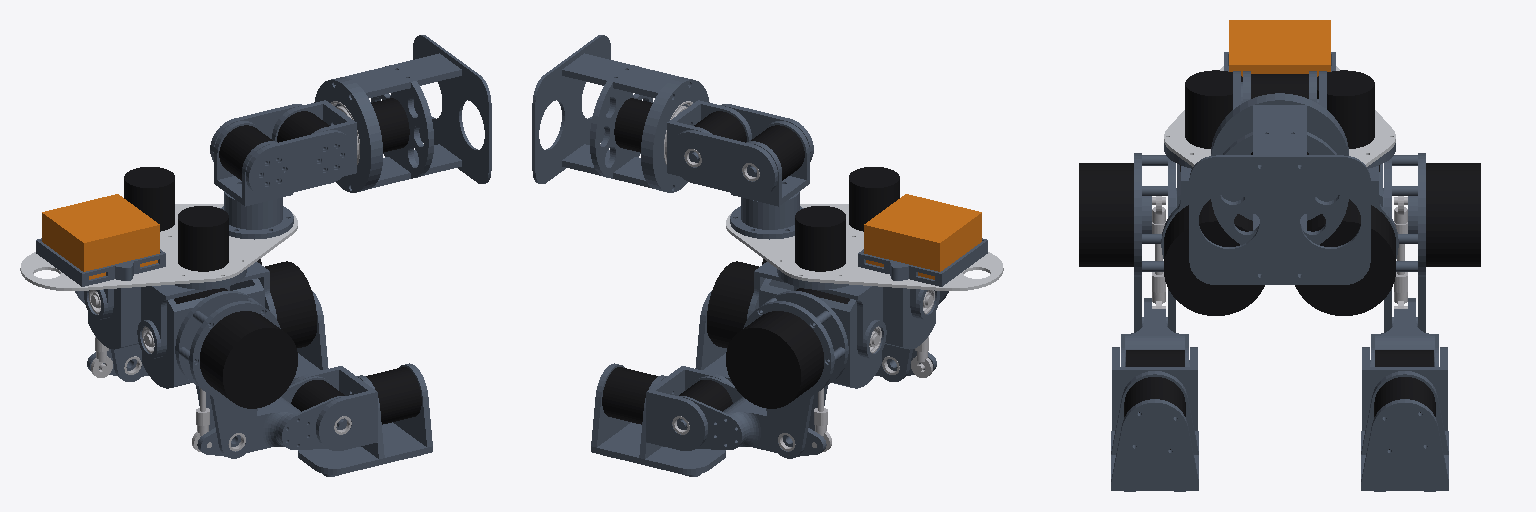
robot.urdf — draxi:
<?xml version="1.0"?>
<!-- Draxi biped, urdf_v2. Generated 2026-11-27 from Raven's Fusion export draxie.step (14:30 UTC), with ankle roll.
     Frames: x forward, y left, z up, metres. Every link frame sits on its joint axis and is aligned with base_link at the zero pose.
     Zero pose = the CAD pose (thigh vertical, shin horizontal forward, neck link horizontal).
     Knee is a parallelogram pushrod (crank 25 / lever 25 / rod 90 / thigh 90): knee angle = knee motor angle, 1:1.
     knee_crank_* and pushrod_* are mimic joints for display only. Masses: see MASSES.md. -->
<robot name="draxi">
  <link name="base_link">
    <inertial><origin xyz="-0.0196517 0.000100607 0.0161897" rpy="0 0 0"/><mass value="1.9598"/><inertia ixx="2.5655e-03" ixy="-5.6714e-06" ixz="6.6033e-06" iyy="6.8610e-03" iyz="3.1890e-06" izz="8.1766e-03"/></inertial>
    <visual><origin xyz="0 0 0" rpy="0 0 0"/><geometry><mesh filename="meshes/visual/base_link.dae"/></geometry></visual>
    <collision><origin xyz="0 0 0" rpy="0 0 0"/><geometry><mesh filename="meshes/collision/base_link.stl"/></geometry></collision>
  </link>
  <link name="hip_yaw_L">
    <inertial><origin xyz="0.0581804 -1.01133e-07 0.0051248" rpy="0 0 0"/><mass value="0.5028"/><inertia ixx="4.4639e-04" ixy="-2.6348e-10" ixz="1.5450e-04" iyy="9.4864e-04" iyz="-1.1479e-08" izz="8.3274e-04"/></inertial>
    <visual><origin xyz="0 0 0" rpy="0 0 0"/><geometry><mesh filename="meshes/visual/hip_yaw_L.dae"/></geometry></visual>
    <collision><origin xyz="0 0 0" rpy="0 0 0"/><geometry><mesh filename="meshes/collision/hip_yaw_L.stl"/></geometry></collision>
  </link>
  <link name="hip_roll_L">
    <inertial><origin xyz="-0.000339695 0.00342029 -4.68613e-05" rpy="0 0 0"/><mass value="0.5270"/><inertia ixx="3.1509e-04" ixy="-6.2437e-07" ixz="-7.5047e-08" iyy="5.2298e-04" iyz="4.6012e-07" izz="4.2529e-04"/></inertial>
    <visual><origin xyz="0 0 0" rpy="0 0 0"/><geometry><mesh filename="meshes/visual/hip_roll_L.dae"/></geometry></visual>
    <collision><origin xyz="0 0 0" rpy="0 0 0"/><geometry><mesh filename="meshes/collision/hip_roll_L.stl"/></geometry></collision>
  </link>
  <link name="thigh_L">
    <inertial><origin xyz="-1.22297e-05 0.070727 -0.00901923" rpy="0 0 0"/><mass value="0.5472"/><inertia ixx="7.8130e-04" ixy="1.0395e-07" ixz="1.4380e-07" iyy="7.5782e-04" iyz="-1.2717e-04" izz="4.0776e-04"/></inertial>
    <visual><origin xyz="0 0 0" rpy="0 0 0"/><geometry><mesh filename="meshes/visual/thigh_L.dae"/></geometry></visual>
    <collision><origin xyz="0 0 0" rpy="0 0 0"/><geometry><mesh filename="meshes/collision/thigh_L.stl"/></geometry></collision>
  </link>
  <link name="shin_L">
    <inertial><origin xyz="0.088326 -0.000282063 8.07046e-05" rpy="0 0 0"/><mass value="0.2632"/><inertia ixx="1.1241e-04" ixy="8.0050e-06" ixz="-3.4500e-07" iyy="2.3946e-04" iyz="-3.2486e-07" izz="2.6823e-04"/></inertial>
    <visual><origin xyz="0 0 0" rpy="0 0 0"/><geometry><mesh filename="meshes/visual/shin_L.dae"/></geometry></visual>
    <collision><origin xyz="0 0 0" rpy="0 0 0"/><geometry><mesh filename="meshes/collision/shin_L.stl"/></geometry></collision>
  </link>
  <link name="ankle_L">
    <inertial><origin xyz="0.0167823 0.00134282 2.48627e-17" rpy="0 0 0"/><mass value="0.0498"/><inertia ixx="3.8942e-05" ixy="1.3520e-06" ixz="5.0930e-19" iyy="2.4807e-05" iyz="3.1111e-19" izz="4.7253e-05"/></inertial>
    <visual><origin xyz="0 0 0" rpy="0 0 0"/><geometry><mesh filename="meshes/visual/ankle_L.dae"/></geometry></visual>
    <collision><origin xyz="0 0 0" rpy="0 0 0"/><geometry><mesh filename="meshes/collision/ankle_L.stl"/></geometry></collision>
  </link>
  <link name="foot_L">
    <inertial><origin xyz="0.0583388 -0.000679867 -0.00829816" rpy="0 0 0"/><mass value="0.2617"/><inertia ixx="1.6991e-04" ixy="-7.8510e-06" ixz="-3.1740e-05" iyy="2.5625e-04" iyz="7.8311e-07" izz="2.0302e-04"/></inertial>
    <visual><origin xyz="0 0 0" rpy="0 0 0"/><geometry><mesh filename="meshes/visual/foot_L.dae"/></geometry></visual>
    <collision><origin xyz="0 0 0" rpy="0 0 0"/><geometry><mesh filename="meshes/collision/foot_L.stl"/></geometry></collision>
  </link>
  <link name="knee_crank_L">
    <inertial><origin xyz="-0.00372982 2.2446e-05 -4.09845e-10" rpy="0 0 0"/><mass value="0.0097"/><inertia ixx="8.9523e-07" ixy="-4.7084e-08" ixz="-6.7502e-14" iyy="2.3516e-06" iyz="-5.1738e-15" izz="1.5801e-06"/></inertial>
    <visual><origin xyz="0 0 0" rpy="0 0 0"/><geometry><mesh filename="meshes/visual/knee_crank_L.dae"/></geometry></visual>
  </link>
  <link name="pushrod_L">
    <inertial><origin xyz="2.03928e-17 0.000313384 -0.045" rpy="0 0 0"/><mass value="0.0806"/><inertia ixx="9.4966e-05" ixy="-4.6711e-21" ixz="4.1437e-11" iyy="9.5386e-05" iyz="3.0176e-21" izz="1.7943e-06"/></inertial>
    <visual><origin xyz="0 0 0" rpy="0 0 0"/><geometry><mesh filename="meshes/visual/pushrod_L.dae"/></geometry></visual>
  </link>
  <link name="sole_L">
  </link>
  <link name="hip_yaw_R">
    <inertial><origin xyz="0.0581804 1.07519e-07 0.00512479" rpy="0 0 0"/><mass value="0.5028"/><inertia ixx="4.4639e-04" ixy="1.5174e-10" ixz="1.5450e-04" iyy="9.4864e-04" iyz="1.1496e-08" izz="8.3274e-04"/></inertial>
    <visual><origin xyz="0 0 0" rpy="0 0 0"/><geometry><mesh filename="meshes/visual/hip_yaw_R.dae"/></geometry></visual>
    <collision><origin xyz="0 0 0" rpy="0 0 0"/><geometry><mesh filename="meshes/collision/hip_yaw_R.stl"/></geometry></collision>
  </link>
  <link name="hip_roll_R">
    <inertial><origin xyz="-0.000339702 -0.00342029 -4.68564e-05" rpy="0 0 0"/><mass value="0.5270"/><inertia ixx="3.1509e-04" ixy="6.2445e-07" ixz="-7.5050e-08" iyy="5.2298e-04" iyz="-4.6017e-07" izz="4.2529e-04"/></inertial>
    <visual><origin xyz="0 0 0" rpy="0 0 0"/><geometry><mesh filename="meshes/visual/hip_roll_R.dae"/></geometry></visual>
    <collision><origin xyz="0 0 0" rpy="0 0 0"/><geometry><mesh filename="meshes/collision/hip_roll_R.stl"/></geometry></collision>
  </link>
  <link name="thigh_R">
    <inertial><origin xyz="-1.22369e-05 -0.070727 -0.00901923" rpy="0 0 0"/><mass value="0.5472"/><inertia ixx="7.8130e-04" ixy="-1.0406e-07" ixz="1.4383e-07" iyy="7.5782e-04" iyz="1.2717e-04" izz="4.0776e-04"/></inertial>
    <visual><origin xyz="0 0 0" rpy="0 0 0"/><geometry><mesh filename="meshes/visual/thigh_R.dae"/></geometry></visual>
    <collision><origin xyz="0 0 0" rpy="0 0 0"/><geometry><mesh filename="meshes/collision/thigh_R.stl"/></geometry></collision>
  </link>
  <link name="shin_R">
    <inertial><origin xyz="0.088326 0.000282058 8.0704e-05" rpy="0 0 0"/><mass value="0.2632"/><inertia ixx="1.1241e-04" ixy="-8.0050e-06" ixz="-3.4500e-07" iyy="2.3946e-04" iyz="3.2486e-07" izz="2.6823e-04"/></inertial>
    <visual><origin xyz="0 0 0" rpy="0 0 0"/><geometry><mesh filename="meshes/visual/shin_R.dae"/></geometry></visual>
    <collision><origin xyz="0 0 0" rpy="0 0 0"/><geometry><mesh filename="meshes/collision/shin_R.stl"/></geometry></collision>
  </link>
  <link name="ankle_R">
    <inertial><origin xyz="0.0167823 -0.00134282 2.48728e-17" rpy="0 0 0"/><mass value="0.0498"/><inertia ixx="3.8942e-05" ixy="-1.3520e-06" ixz="5.0931e-19" iyy="2.4807e-05" iyz="-3.1110e-19" izz="4.7253e-05"/></inertial>
    <visual><origin xyz="0 0 0" rpy="0 0 0"/><geometry><mesh filename="meshes/visual/ankle_R.dae"/></geometry></visual>
    <collision><origin xyz="0 0 0" rpy="0 0 0"/><geometry><mesh filename="meshes/collision/ankle_R.stl"/></geometry></collision>
  </link>
  <link name="foot_R">
    <inertial><origin xyz="0.0583389 0.000679868 -0.00829816" rpy="0 0 0"/><mass value="0.2617"/><inertia ixx="1.6991e-04" ixy="7.8510e-06" ixz="-3.1740e-05" iyy="2.5625e-04" iyz="-7.8311e-07" izz="2.0302e-04"/></inertial>
    <visual><origin xyz="0 0 0" rpy="0 0 0"/><geometry><mesh filename="meshes/visual/foot_R.dae"/></geometry></visual>
    <collision><origin xyz="0 0 0" rpy="0 0 0"/><geometry><mesh filename="meshes/collision/foot_R.stl"/></geometry></collision>
  </link>
  <link name="knee_crank_R">
    <inertial><origin xyz="-0.00372982 -2.2446e-05 -4.09845e-10" rpy="0 0 0"/><mass value="0.0097"/><inertia ixx="8.9523e-07" ixy="4.7084e-08" ixz="-6.7502e-14" iyy="2.3516e-06" iyz="5.1738e-15" izz="1.5801e-06"/></inertial>
    <visual><origin xyz="0 0 0" rpy="0 0 0"/><geometry><mesh filename="meshes/visual/knee_crank_R.dae"/></geometry></visual>
  </link>
  <link name="pushrod_R">
    <inertial><origin xyz="2.03928e-17 -0.000313384 -0.045" rpy="0 0 0"/><mass value="0.0806"/><inertia ixx="9.4966e-05" ixy="4.6690e-21" ixz="4.1437e-11" iyy="9.5386e-05" iyz="5.3204e-21" izz="1.7943e-06"/></inertial>
    <visual><origin xyz="0 0 0" rpy="0 0 0"/><geometry><mesh filename="meshes/visual/pushrod_R.dae"/></geometry></visual>
  </link>
  <link name="sole_R">
  </link>
  <link name="neck_yaw">
    <inertial><origin xyz="-2.80063e-06 -0.00168892 0.0296704" rpy="0 0 0"/><mass value="0.2249"/><inertia ixx="1.1470e-04" ixy="2.2130e-08" ixz="-9.4722e-08" iyy="9.0994e-05" iyz="5.9722e-07" izz="1.0476e-04"/></inertial>
    <visual><origin xyz="0 0 0" rpy="0 0 0"/><geometry><mesh filename="meshes/visual/neck_yaw.dae"/></geometry></visual>
    <collision><origin xyz="0 0 0" rpy="0 0 0"/><geometry><mesh filename="meshes/collision/neck_yaw.stl"/></geometry></collision>
  </link>
  <link name="neck_link">
    <inertial><origin xyz="0.03 0.00171797 -3.60278e-17" rpy="0 0 0"/><mass value="0.0652"/><inertia ixx="7.3585e-05" ixy="2.8391e-21" ixz="6.5483e-20" iyy="6.6990e-05" iyz="2.1914e-20" izz="1.2068e-04"/></inertial>
    <visual><origin xyz="0 0 0" rpy="0 0 0"/><geometry><mesh filename="meshes/visual/neck_link.dae"/></geometry></visual>
    <collision><origin xyz="0 0 0" rpy="0 0 0"/><geometry><mesh filename="meshes/collision/neck_link.stl"/></geometry></collision>
  </link>
  <link name="neck_nod">
    <inertial><origin xyz="0.00393668 -0.00172834 9.15234e-05" rpy="0 0 0"/><mass value="0.2323"/><inertia ixx="1.0550e-04" ixy="-1.5592e-06" ixz="-1.2509e-08" iyy="1.0355e-04" iyz="-3.2428e-07" izz="1.2599e-04"/></inertial>
    <visual><origin xyz="0 0 0" rpy="0 0 0"/><geometry><mesh filename="meshes/visual/neck_nod.dae"/></geometry></visual>
    <collision><origin xyz="0 0 0" rpy="0 0 0"/><geometry><mesh filename="meshes/collision/neck_nod.stl"/></geometry></collision>
  </link>
  <link name="head">
    <inertial><origin xyz="0.0330524 4.1628e-05 -1.23227e-06" rpy="0 0 0"/><mass value="0.5106"/><inertia ixx="4.1980e-04" ixy="-1.1637e-07" ixz="1.5996e-08" iyy="7.4438e-04" iyz="-9.6215e-08" izz="6.8311e-04"/></inertial>
    <visual><origin xyz="0 0 0" rpy="0 0 0"/><geometry><mesh filename="meshes/visual/head.dae"/></geometry></visual>
    <collision><origin xyz="0 0 0" rpy="0 0 0"/><geometry><mesh filename="meshes/collision/head.stl"/></geometry></collision>
  </link>
  <joint name="hip_yaw_L" type="revolute"><parent link="base_link"/><child link="hip_yaw_L"/><origin xyz="0 0.048 -0.062" rpy="0 0 0"/>
    <axis xyz="0 0 1"/><limit lower="-0.5236" upper="0.5236" effort="5.5" velocity="50"/>
  </joint>
  <joint name="hip_roll_L" type="revolute"><parent link="hip_yaw_L"/><child link="hip_roll_L"/><origin xyz="0 0 0" rpy="0 0 0"/>
    <axis xyz="1 0 0"/><limit lower="-0.3491" upper="0.3491" effort="17" velocity="44"/>
  </joint>
  <joint name="hip_pitch_L" type="revolute"><parent link="hip_roll_L"/><child link="thigh_L"/><origin xyz="0 0 0" rpy="0 0 0"/>
    <axis xyz="0 1 0"/><limit lower="-1.0821" upper="1.5708" effort="17" velocity="44"/>
  </joint>
  <joint name="knee_L" type="revolute"><parent link="thigh_L"/><child link="shin_L"/><origin xyz="0 0.044 -0.09" rpy="0 0 0"/>
    <axis xyz="0 1 0"/><limit lower="-1.3963" upper="0.2618" effort="17" velocity="44"/>
  </joint>
  <joint name="ankle_pitch_L" type="revolute"><parent link="shin_L"/><child link="ankle_L"/><origin xyz="0.1 0.002 0" rpy="0 0 0"/>
    <axis xyz="0 1 0"/><limit lower="-1.0472" upper="0.5236" effort="5.5" velocity="50"/>
  </joint>
  <joint name="ankle_roll_L" type="revolute"><parent link="ankle_L"/><child link="foot_L"/><origin xyz="0 0 0" rpy="0 0 0"/>
    <axis xyz="1 0 0"/><limit lower="-0.5236" upper="0.5236" effort="5.5" velocity="50"/>
  </joint>
  <joint name="knee_crank_L" type="revolute"><parent link="thigh_L"/><child link="knee_crank_L"/><origin xyz="0 0.0526 0" rpy="0 0 0"/>
    <axis xyz="0 1 0"/><limit lower="-1.3963" upper="0.2618" effort="17" velocity="44"/>
    <mimic joint="knee_L" multiplier="1.0" offset="0"/>
  </joint>
  <joint name="pushrod_L" type="revolute"><parent link="knee_crank_L"/><child link="pushrod_L"/><origin xyz="-0.025 -0.0098 0" rpy="0 0 0"/>
    <axis xyz="0 1 0"/><limit lower="-0.2618" upper="1.3963" effort="17" velocity="44"/>
    <mimic joint="knee_L" multiplier="-1.0" offset="0"/>
  </joint>
  <joint name="sole_L" type="fixed"><parent link="foot_L"/><child link="sole_L"/><origin xyz="0.0375 0 -0.051" rpy="0 0 0"/>
  </joint>
  <joint name="hip_yaw_R" type="revolute"><parent link="base_link"/><child link="hip_yaw_R"/><origin xyz="0 -0.048 -0.062" rpy="0 0 0"/>
    <axis xyz="0 0 1"/><limit lower="-0.5236" upper="0.5236" effort="5.5" velocity="50"/>
  </joint>
  <joint name="hip_roll_R" type="revolute"><parent link="hip_yaw_R"/><child link="hip_roll_R"/><origin xyz="0 0 0" rpy="0 0 0"/>
    <axis xyz="1 0 0"/><limit lower="-0.3491" upper="0.3491" effort="17" velocity="44"/>
  </joint>
  <joint name="hip_pitch_R" type="revolute"><parent link="hip_roll_R"/><child link="thigh_R"/><origin xyz="0 0 0" rpy="0 0 0"/>
    <axis xyz="0 1 0"/><limit lower="-1.0821" upper="1.5708" effort="17" velocity="44"/>
  </joint>
  <joint name="knee_R" type="revolute"><parent link="thigh_R"/><child link="shin_R"/><origin xyz="0 -0.044 -0.09" rpy="0 0 0"/>
    <axis xyz="0 1 0"/><limit lower="-1.3963" upper="0.2618" effort="17" velocity="44"/>
  </joint>
  <joint name="ankle_pitch_R" type="revolute"><parent link="shin_R"/><child link="ankle_R"/><origin xyz="0.1 -0.002 0" rpy="0 0 0"/>
    <axis xyz="0 1 0"/><limit lower="-1.0472" upper="0.5236" effort="5.5" velocity="50"/>
  </joint>
  <joint name="ankle_roll_R" type="revolute"><parent link="ankle_R"/><child link="foot_R"/><origin xyz="0 0 0" rpy="0 0 0"/>
    <axis xyz="1 0 0"/><limit lower="-0.5236" upper="0.5236" effort="5.5" velocity="50"/>
  </joint>
  <joint name="knee_crank_R" type="revolute"><parent link="thigh_R"/><child link="knee_crank_R"/><origin xyz="0 -0.0526 0" rpy="0 0 0"/>
    <axis xyz="0 1 0"/><limit lower="-1.3963" upper="0.2618" effort="17" velocity="44"/>
    <mimic joint="knee_R" multiplier="1.0" offset="0"/>
  </joint>
  <joint name="pushrod_R" type="revolute"><parent link="knee_crank_R"/><child link="pushrod_R"/><origin xyz="-0.025 0.0098 0" rpy="0 0 0"/>
    <axis xyz="0 1 0"/><limit lower="-0.2618" upper="1.3963" effort="17" velocity="44"/>
    <mimic joint="knee_R" multiplier="-1.0" offset="0"/>
  </joint>
  <joint name="sole_R" type="fixed"><parent link="foot_R"/><child link="sole_R"/><origin xyz="0.0375 0 -0.051" rpy="0 0 0"/>
  </joint>
  <joint name="neck_yaw" type="revolute"><parent link="base_link"/><child link="neck_yaw"/><origin xyz="0.08 0 0.035" rpy="0 0 0"/>
    <axis xyz="0 0 1"/><limit lower="-1.0472" upper="1.0472" effort="5.5" velocity="50"/>
  </joint>
  <joint name="neck_pitch" type="revolute"><parent link="neck_yaw"/><child link="neck_link"/><origin xyz="0 0 0.032" rpy="0 0 0"/>
    <axis xyz="0 1 0"/><limit lower="-1.5708" upper="0.5236" effort="5.5" velocity="50"/>
  </joint>
  <joint name="neck_nod" type="revolute"><parent link="neck_link"/><child link="neck_nod"/><origin xyz="0.06 0 0" rpy="0 0 0"/>
    <axis xyz="0 1 0"/><limit lower="-1.0472" upper="1.5708" effort="5.5" velocity="50"/>
  </joint>
  <joint name="head_roll" type="revolute"><parent link="neck_nod"/><child link="head"/><origin xyz="0.0415 0 0" rpy="0 0 0"/>
    <axis xyz="1 0 0"/><limit lower="-0.6109" upper="0.6109" effort="5.5" velocity="50"/>
  </joint>
</robot>

--- Facts derived from the render (not from the file) ---
Views: 3 orthographic renders of the robot side by side, from view 1: azimuth 30°, elevation 25°; view 2: azimuth 150°, elevation 25°; view 3: azimuth 270°, elevation 25°.
Model draxi with 23 links and 22 joints (20 revolute, 2 fixed), rooted at base_link, posed every joint at zero.
Links seen in each view (by area): view 1: base_link, head, thigh_R, foot_R, neck_link, hip_yaw_R, shin_R, ankle_R, neck_yaw, hip_roll_R, neck_nod, hip_roll_L (+5 smaller); view 2: base_link, head, thigh_L, foot_L, neck_link, hip_yaw_L, shin_L, ankle_L, neck_yaw, hip_roll_L, neck_nod, hip_roll_R (+5 smaller); view 3: head, base_link, foot_L, foot_R, thigh_L, thigh_R, hip_yaw_L, hip_yaw_R, shin_L, shin_R, ankle_L, ankle_R (+4 smaller).
Link boxes in pixels (x1,y1,x2,y2): base_link: (20, 167, 297, 290); head: (314, 35, 491, 192); thigh_R: (175, 291, 297, 458); foot_R: (298, 363, 432, 476); neck_link: (210, 104, 354, 197); hip_yaw_R: (137, 261, 316, 359); shin_R: (197, 376, 346, 456); ankle_R: (290, 366, 377, 450); neck_yaw: (214, 121, 292, 206); hip_roll_R: (142, 278, 264, 388); neck_nod: (272, 100, 356, 175); hip_roll_L: (88, 287, 140, 349); base_link: (726, 167, 1003, 290); head: (532, 35, 709, 192); thigh_L: (726, 291, 848, 458); foot_L: (591, 363, 725, 476); neck_link: (669, 104, 813, 197); hip_yaw_L: (707, 261, 886, 359); shin_L: (677, 376, 826, 456); ankle_L: (646, 366, 733, 450); neck_yaw: (731, 121, 809, 206); hip_roll_L: (759, 278, 881, 388); neck_nod: (667, 100, 751, 175); hip_roll_R: (883, 287, 935, 349); head: (1189, 93, 1370, 284); base_link: (1164, 20, 1395, 168); foot_L: (1361, 371, 1448, 491); foot_R: (1111, 371, 1198, 491); thigh_L: (1383, 153, 1480, 332); thigh_R: (1079, 153, 1176, 332); hip_yaw_L: (1295, 166, 1398, 315); hip_yaw_R: (1161, 166, 1264, 315); shin_L: (1371, 298, 1438, 366); shin_R: (1121, 298, 1188, 366); ankle_L: (1362, 347, 1447, 430); ankle_R: (1112, 347, 1197, 430).
Bounding box of the posed robot: 0.4424 × 0.3014 × 0.323 m (x, y, z).
21 mesh visuals loaded from 21 distinct referenced files (21 Collada DAE).
